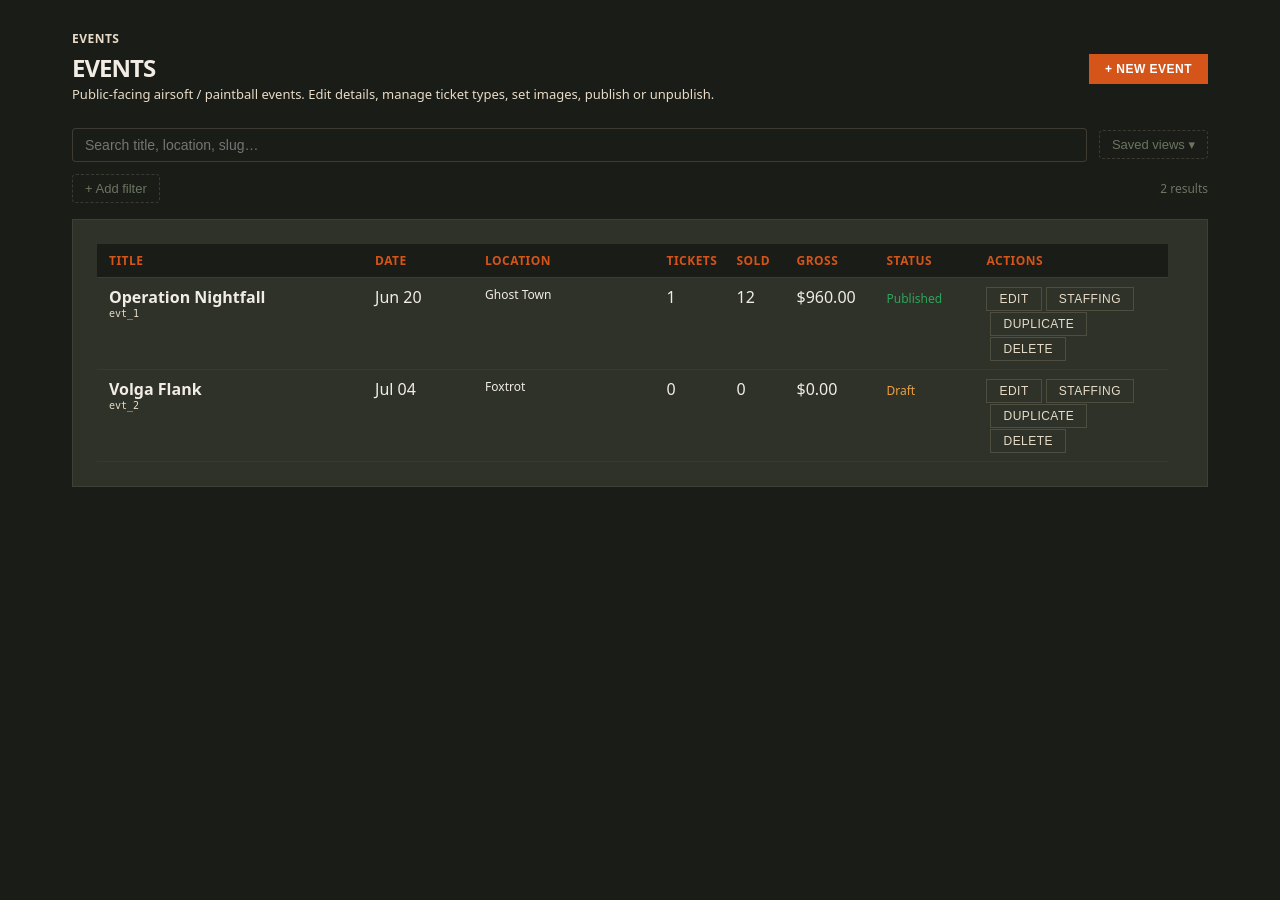
AdminEvents › keeps a legacy off-list type value selectable (no silent rewrite)
This screenshot has width=1280, height=900.
Click the button "Edit" in the row of "Operation Nightfall".
click(1014, 299)  # box [986,287,1042,311]
(page scrolled)
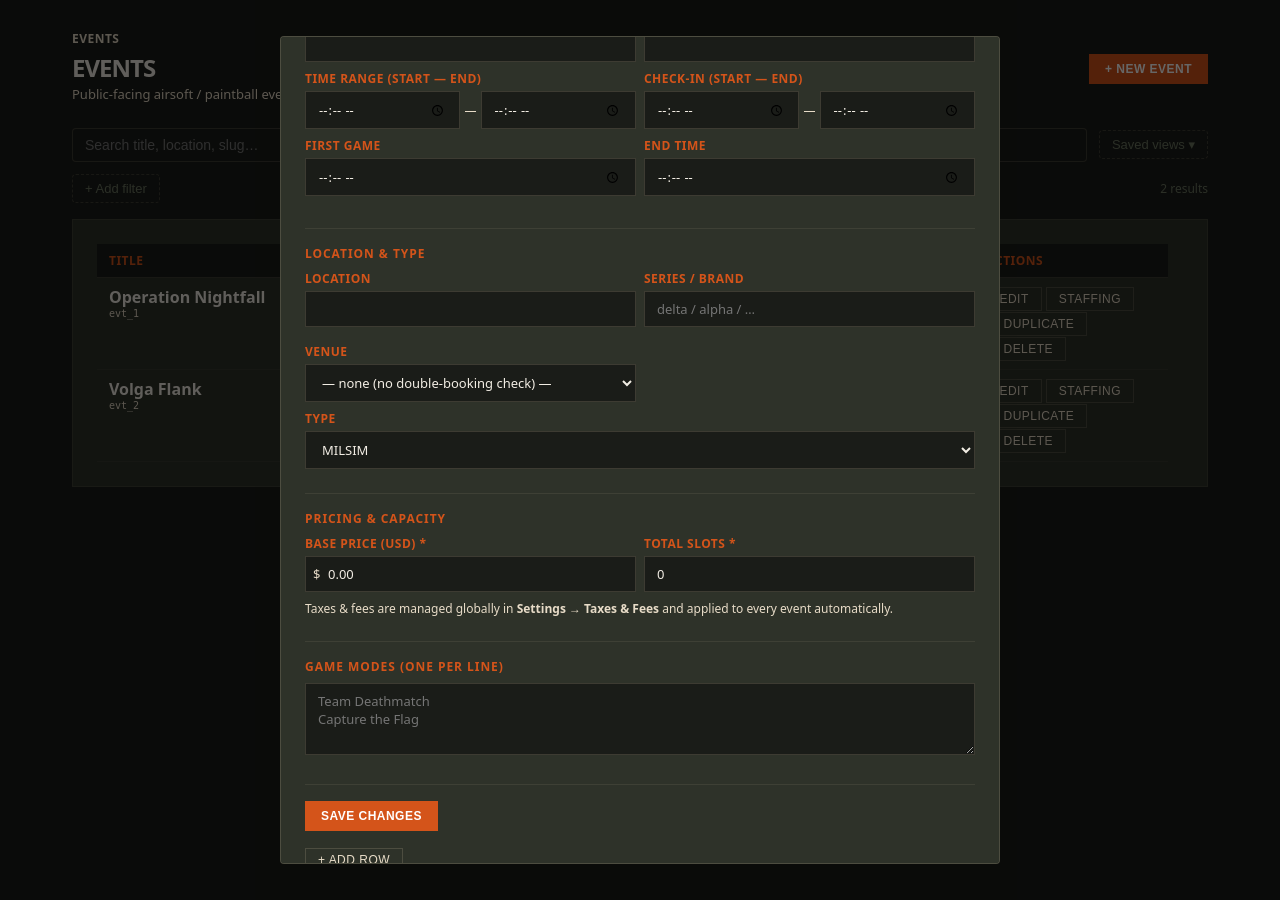
Expected: the dropdown showing "MILSIM" is shown, [305,431,975,469]
